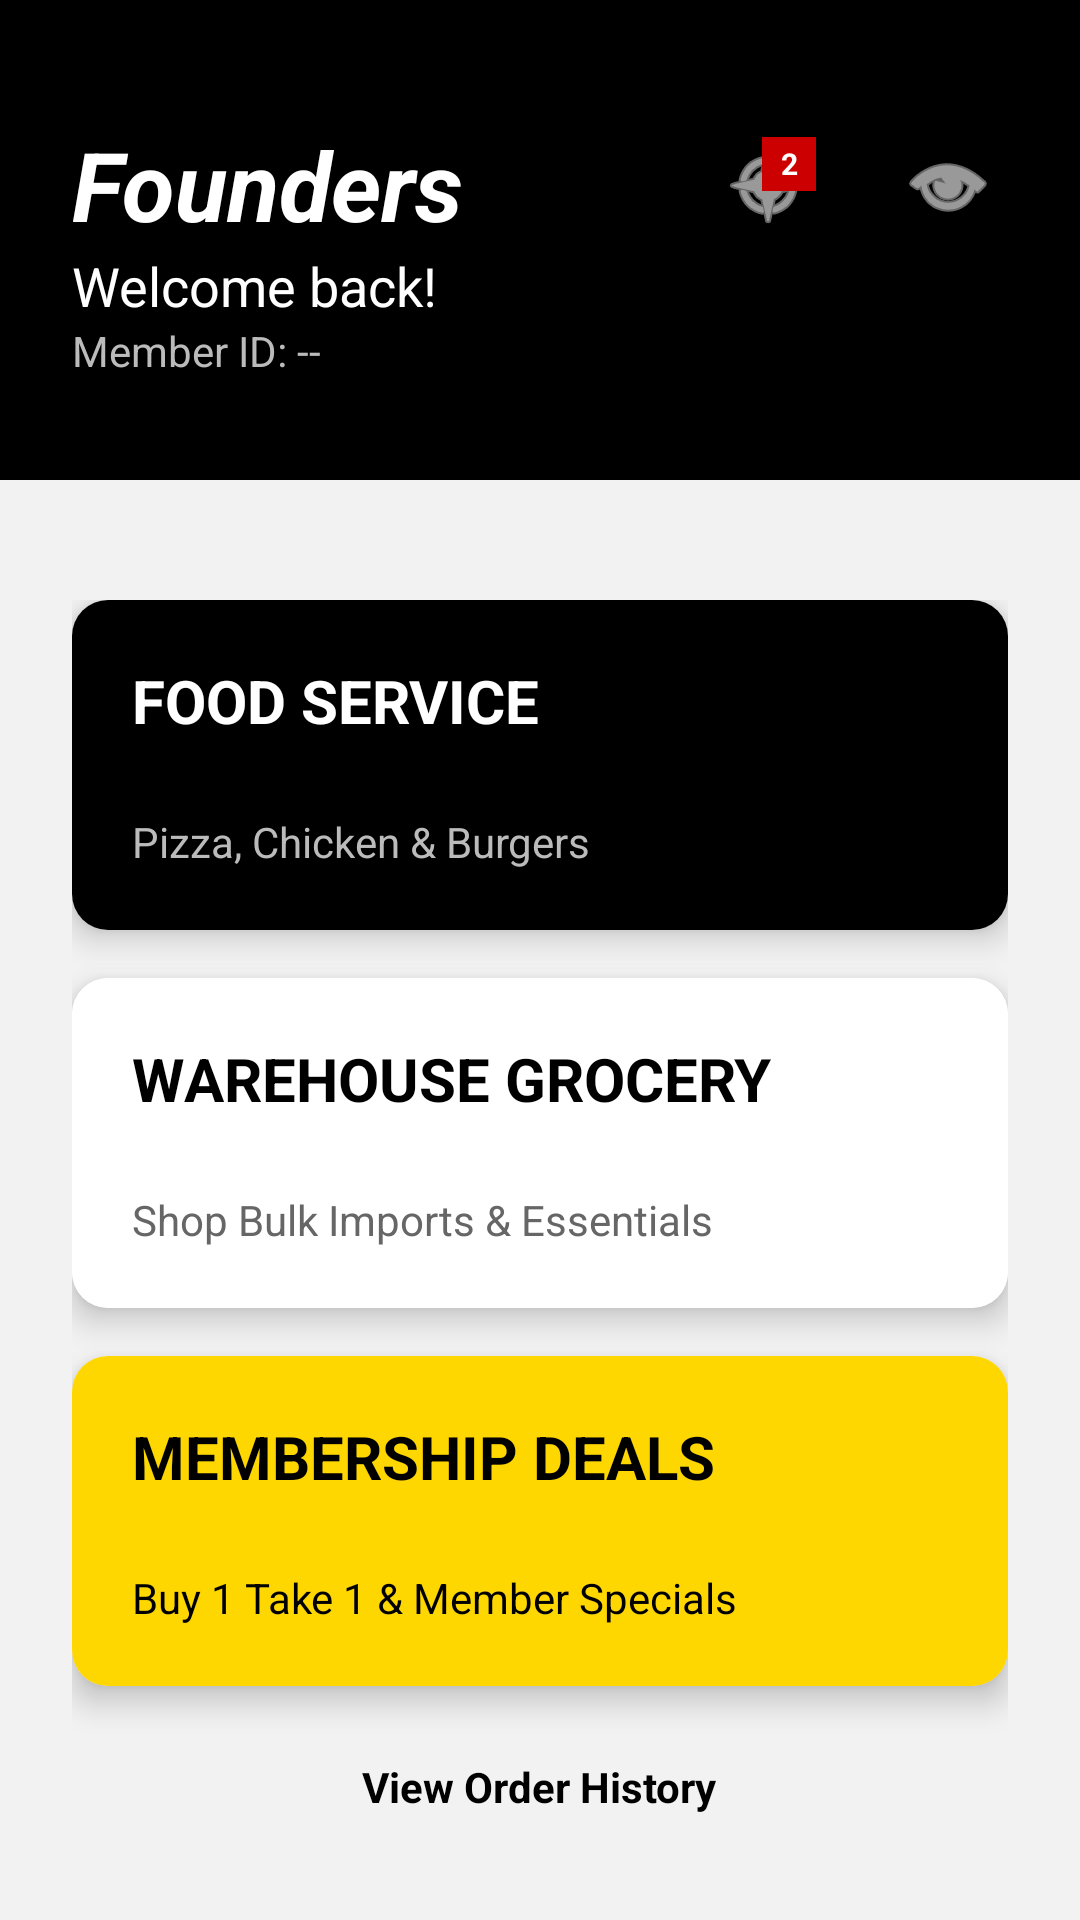

Point at icon controls on the screen. Image size 1080 x 1920, points as (x=x, y=y).
view: (x=948, y=187)
